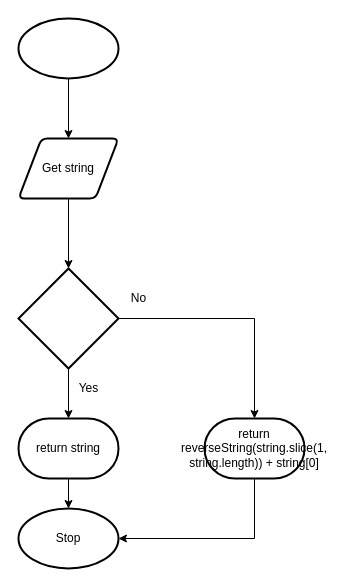
Some shapes in this 344 by 586 pixel diagram are drawn without their labels. Each missing label, with the centre of its shape:
if (string == ''): [68,318]
Start: [68,48]
